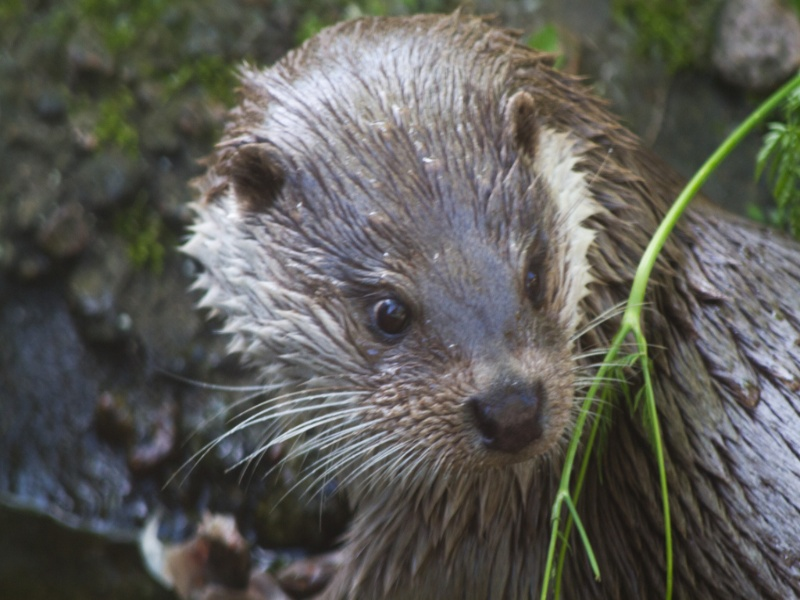minkish: (193, 12, 789, 600)
